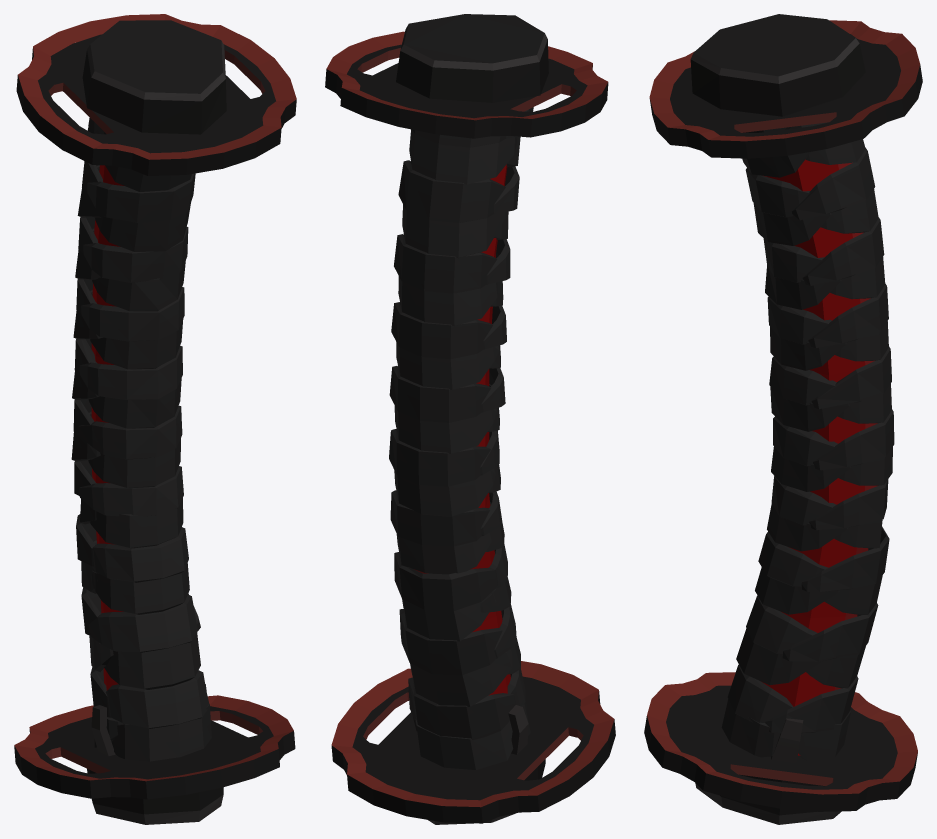
Rendered from mediumBowSamuraiSimpleHandle.glb.
3 renders of one model, left to right at view 1: azimuth 30°, elevation 25°; view 2: azimuth 150°, elevation 25°; view 3: azimuth 270°, elevation 25°, orthographic.
Visible parts, largest first — view 1: mediumBowSamuraiSimpleHandle; view 2: mediumBowSamuraiSimpleHandle; view 3: mediumBowSamuraiSimpleHandle.
Part boxes in pixels (x1,y1,x2,y2): mediumBowSamuraiSimpleHandle: (14,14,296,824); mediumBowSamuraiSimpleHandle: (325,14,615,824); mediumBowSamuraiSimpleHandle: (644,14,922,824).
Bounding box in the file's own units: 0.1242 × 0.3751 × 0.1241.
